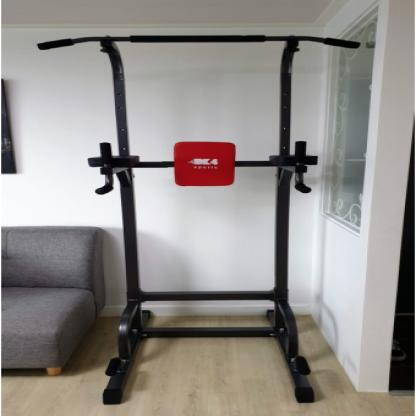chinning dipping: (39, 34, 360, 403)
